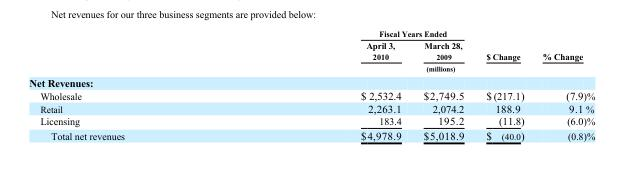table: (28, 28, 594, 141)
table column: (28, 28, 242, 141), (242, 28, 411, 141), (411, 28, 474, 141), (532, 28, 594, 141), (474, 28, 532, 141)
table column header: (28, 28, 594, 74)
table projected row header: (28, 74, 594, 88)
table row: (28, 38, 594, 62), (28, 74, 594, 88), (28, 127, 594, 141), (28, 88, 594, 101), (28, 101, 594, 114), (28, 114, 594, 127), (28, 62, 594, 74), (28, 28, 594, 38)
table spanning cell: (242, 62, 532, 74), (532, 28, 594, 74), (242, 28, 474, 38), (474, 28, 532, 62)
